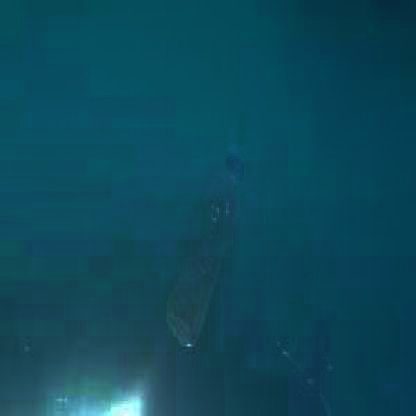pbottle: (156, 136, 249, 359)
